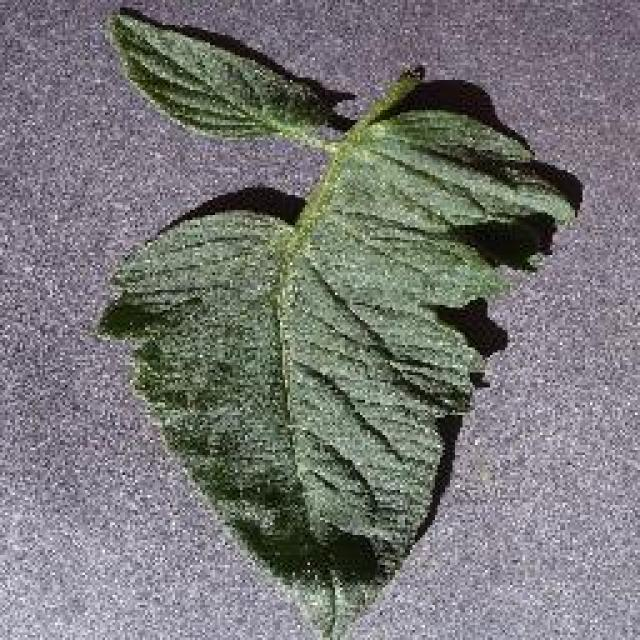Tomato___healthy: (90, 9, 580, 638)
